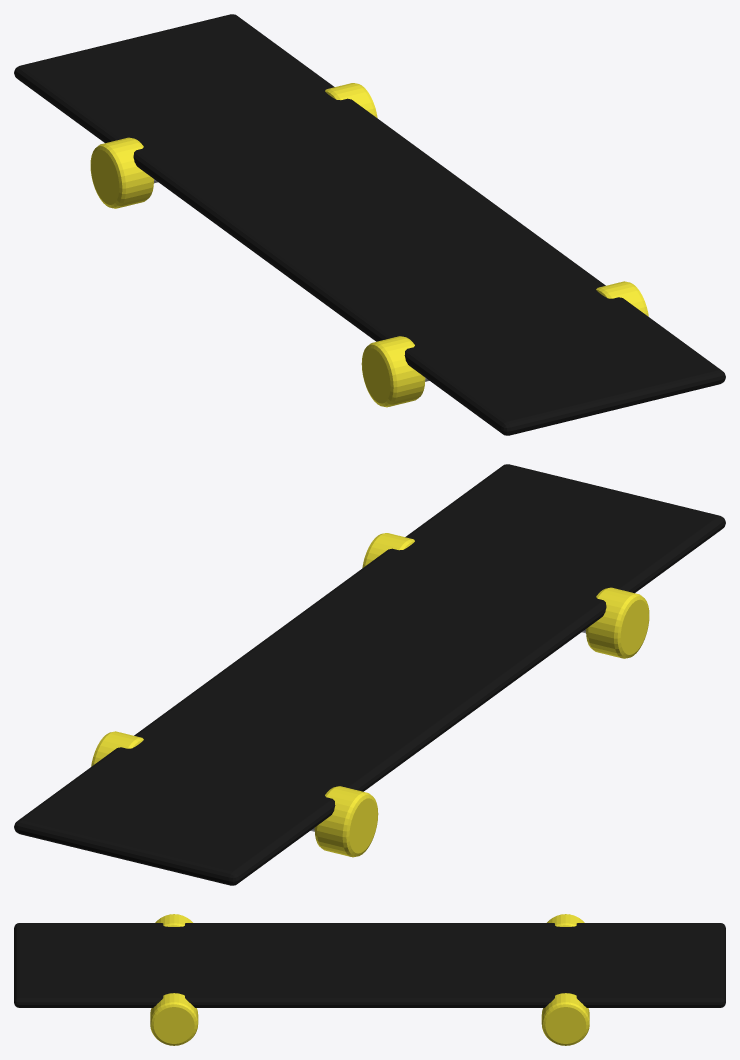
Rendered from custom_skateboard.obj.
3 renders of one model, top to bottom at view 1: azimuth 30°, elevation 25°; view 2: azimuth 150°, elevation 25°; view 3: azimuth 270°, elevation 25°, orthographic. The views are drawn at different scales.
Parts seen in each view (by area): view 1: Skateboard_Deck, Wheel_Front_Left, Wheel_Rear_Left, Wheel_Rear_Right, Wheel_Front_Right; view 2: Skateboard_Deck, Wheel_Rear_Left, Wheel_Front_Left, Wheel_Front_Right, Wheel_Rear_Right; view 3: Skateboard_Deck, Wheel_Front_Right, Wheel_Rear_Right, Wheel_Front_Left, Wheel_Rear_Left.
Part boxes in pixels (x1,y1,x2,y2): Skateboard_Deck: [14, 14, 725, 435]; Wheel_Front_Left: [90, 137, 153, 208]; Wheel_Rear_Left: [361, 336, 425, 407]; Wheel_Rear_Right: [596, 281, 648, 316]; Wheel_Front_Right: [325, 83, 377, 117]; Skateboard_Deck: [14, 464, 725, 885]; Wheel_Rear_Left: [586, 587, 649, 658]; Wheel_Front_Left: [314, 786, 378, 857]; Wheel_Front_Right: [91, 731, 143, 766]; Wheel_Rear_Right: [362, 533, 414, 567]; Skateboard_Deck: [14, 923, 725, 1007]; Wheel_Front_Right: [541, 993, 589, 1045]; Wheel_Rear_Right: [150, 993, 198, 1045]; Wheel_Front_Left: [547, 914, 584, 926]; Wheel_Rear_Left: [155, 914, 192, 926].
Size of the model in its own units: 0.242 by 0.054 by 0.8.
